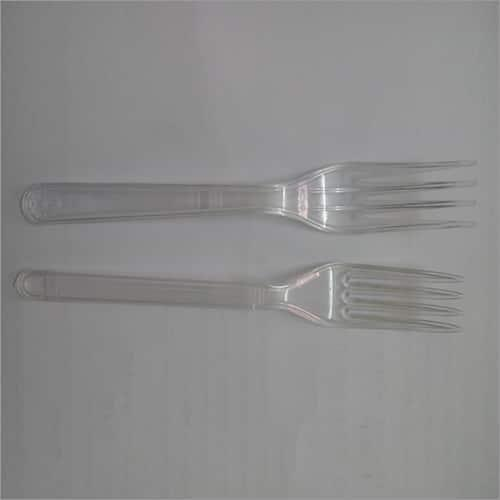Fork: (21, 160, 477, 235), (13, 261, 463, 333)
